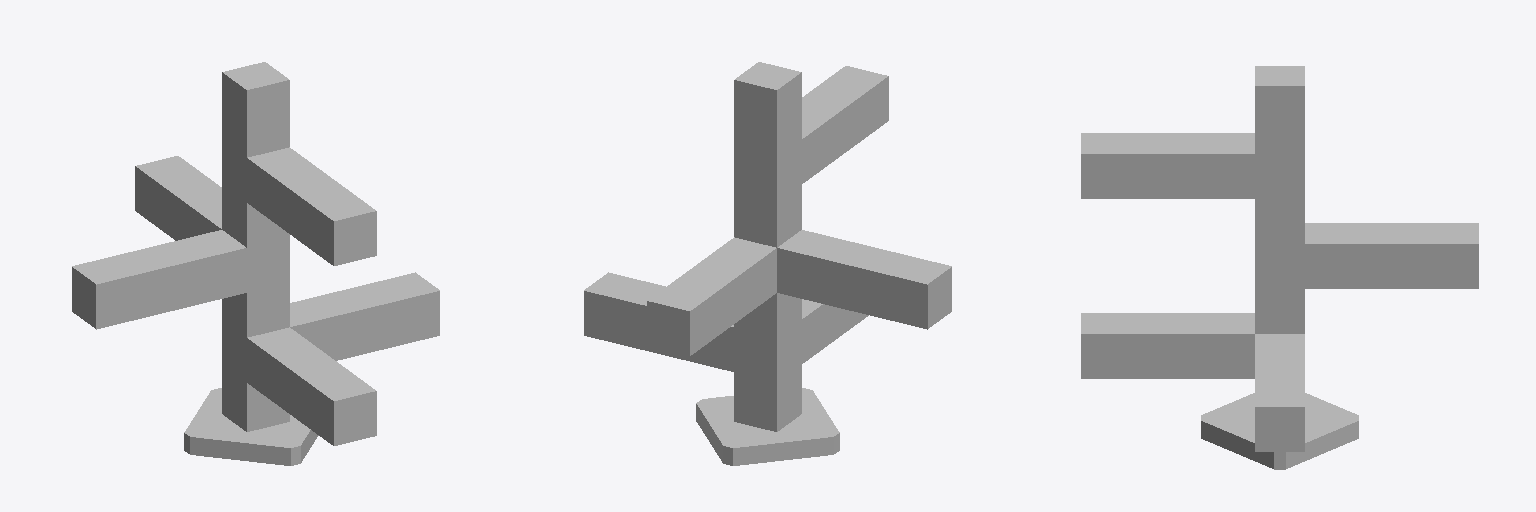
The model's file is obs4.obj.
The picture shows the model from 3 angles: view 1: azimuth 30°, elevation 25°; view 2: azimuth 150°, elevation 25°; view 3: azimuth 270°, elevation 25°; orthographic projection.
Parts seen in each view (by area): view 1: ob4_Cube.028; view 2: ob4_Cube.028; view 3: ob4_Cube.028.
Part boxes in pixels (bbox=[...]): ob4_Cube.028: bbox=[72, 62, 439, 465]; ob4_Cube.028: bbox=[584, 62, 951, 465]; ob4_Cube.028: bbox=[1081, 66, 1478, 469].
Size of the model in its own units: 2 by 2 by 2.